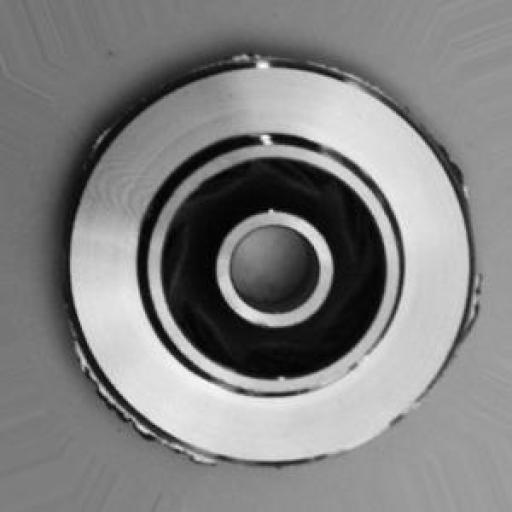defect: (45, 31, 495, 482)
